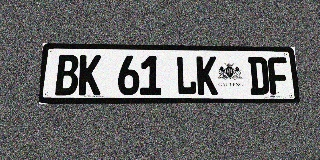1: (140, 55, 161, 95)
6: (118, 55, 139, 95)
B: (55, 54, 79, 95)
D: (248, 57, 270, 95)
F: (267, 57, 289, 95)
K: (78, 55, 101, 95), (196, 56, 218, 95)
L: (176, 56, 197, 95)
